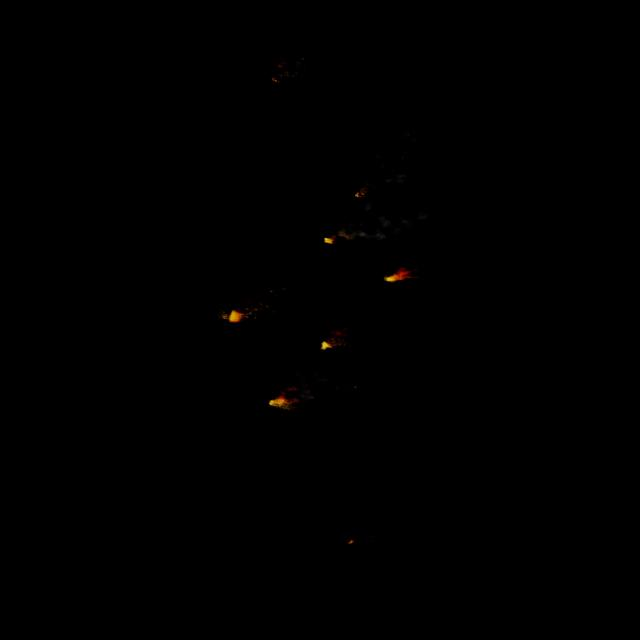fire: (270, 54, 304, 86), (264, 393, 298, 414), (384, 267, 414, 288), (222, 308, 244, 324), (352, 185, 369, 199), (322, 236, 336, 247), (318, 342, 330, 352), (346, 537, 356, 546), (352, 385, 357, 388)
smoke: (279, 336, 364, 412), (358, 124, 427, 200), (336, 195, 426, 252), (408, 240, 498, 292), (237, 270, 296, 324), (326, 325, 356, 349), (358, 530, 389, 548)
